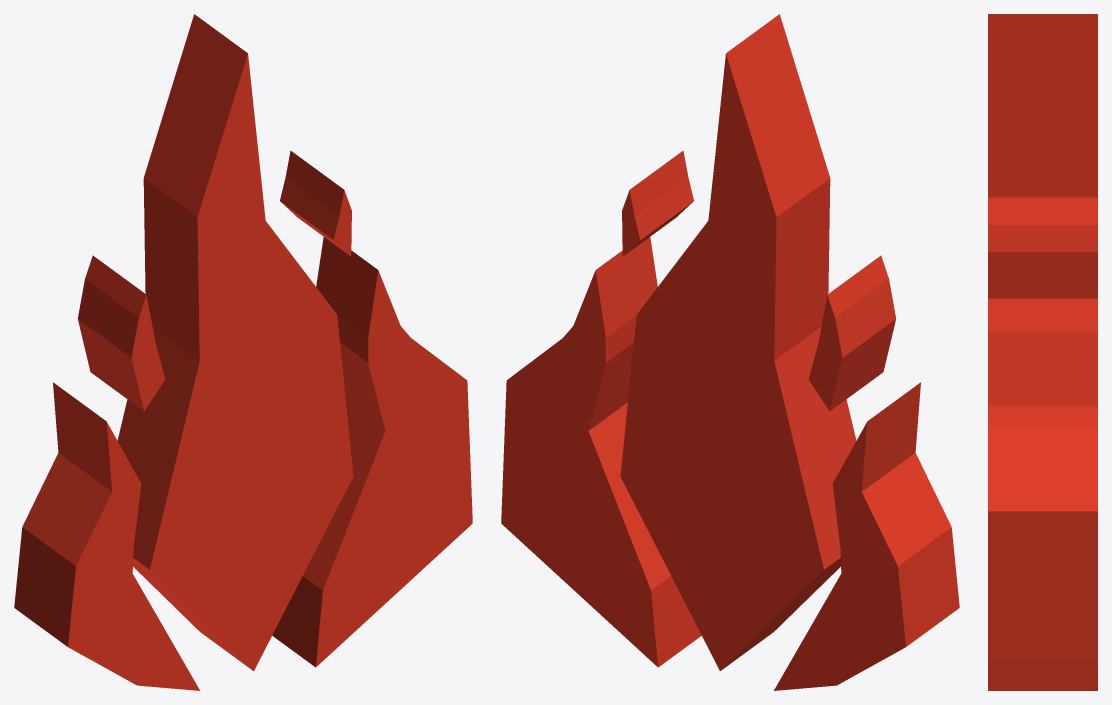
Rendered from Icon_Fire_02.fbx.
3 renders of one model, left to right at view 1: azimuth 30°, elevation 25°; view 2: azimuth 150°, elevation 25°; view 3: azimuth 270°, elevation 25°, orthographic.
Parts seen in each view (by area): view 1: Icon_Fire_02; view 2: Icon_Fire_02; view 3: Icon_Fire_02.
Boxes of the visible parts, x1=… form: Icon_Fire_02: x1=14, y1=14, x2=472, y2=690; Icon_Fire_02: x1=501, y1=14, x2=959, y2=690; Icon_Fire_02: x1=988, y1=14, x2=1097, y2=690.
Bounding box in the file's own units: 52.44 × 78.08 × 12.06.
